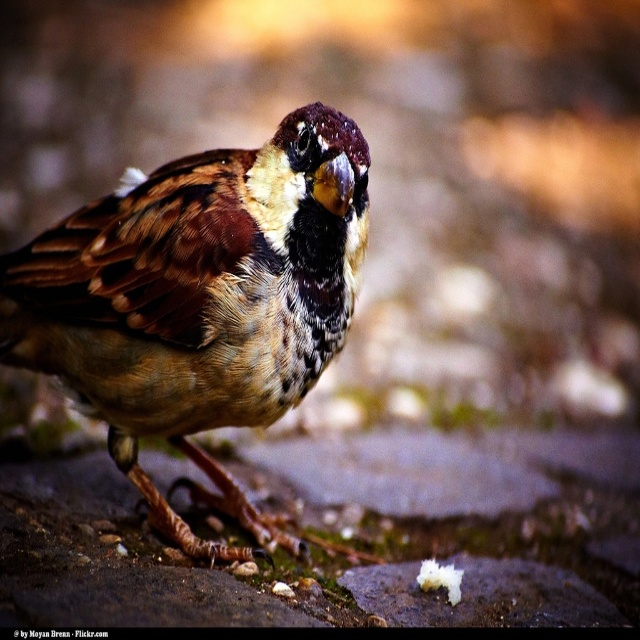Sparrow: (3, 100, 380, 595)
